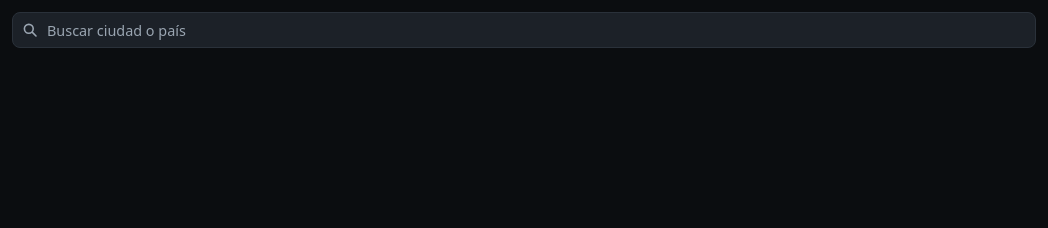
it: PlaceSearch › se maneja con teclado: flechas + Enter eligen
The image size is (1048, 228).
Type "Medellín" into the dropdown labelled "Buscar ciudad o país" at (524, 30), box 12,12 -> 1036,48
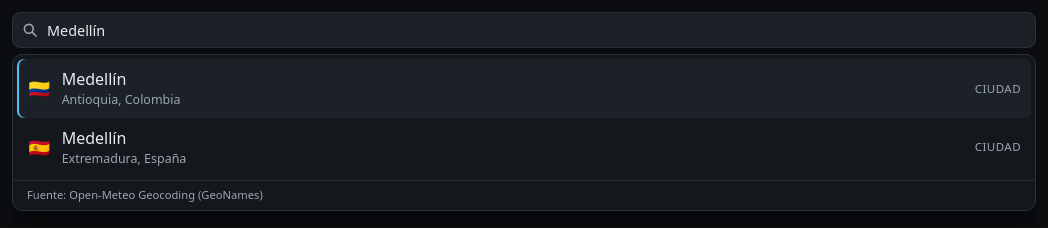
Press ArrowDown in the dropdown named "Buscar ciudad o país", box 12,12 -> 1036,48
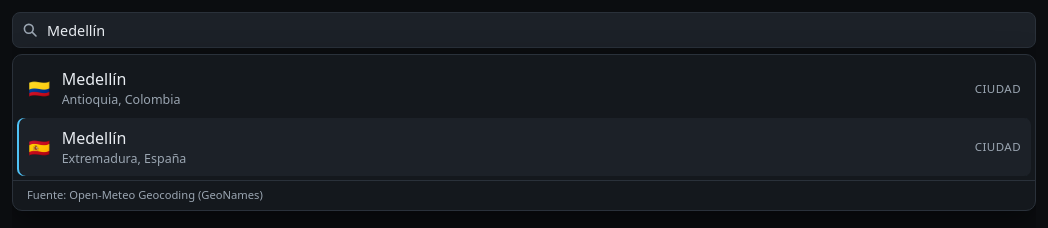
Press Enter in the dropdown named "Buscar ciudad o país", box 12,12 -> 1036,48
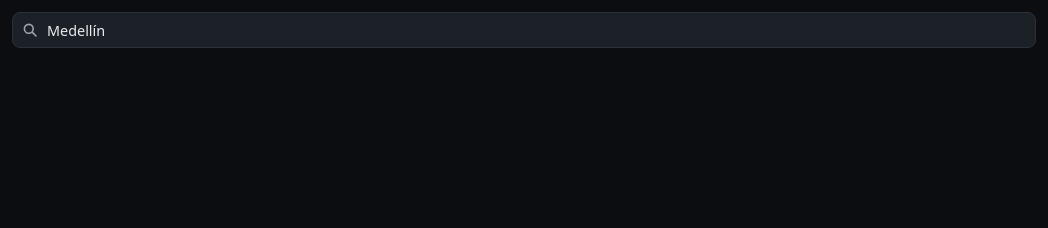
Now the option is gone
